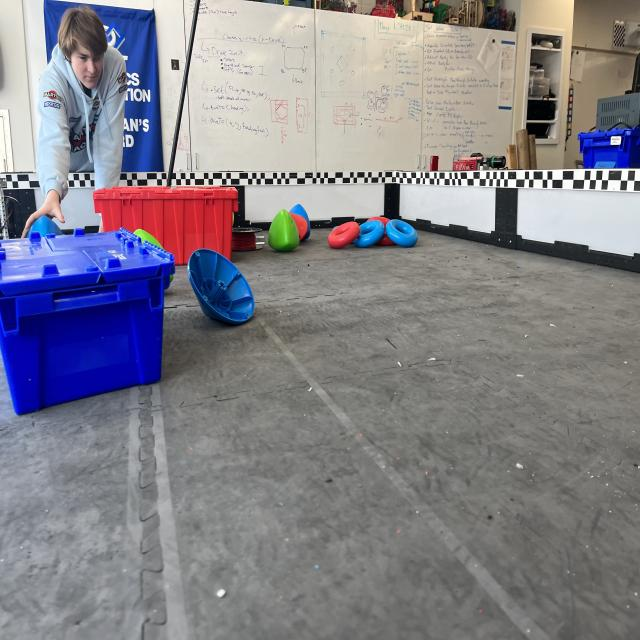Blue-Ring: (385, 220, 418, 247), (354, 220, 385, 247)
Red-Ring: (328, 222, 360, 248)
